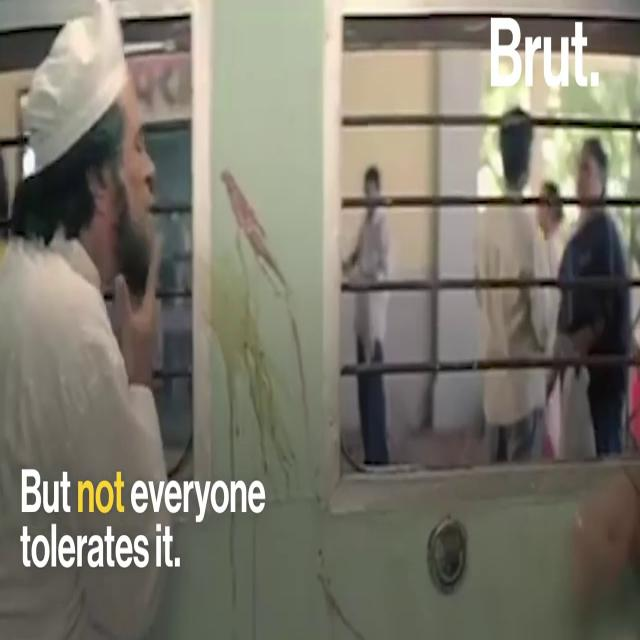spit: (131, 131, 377, 640)
